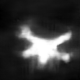plane: (14, 20, 74, 71)
